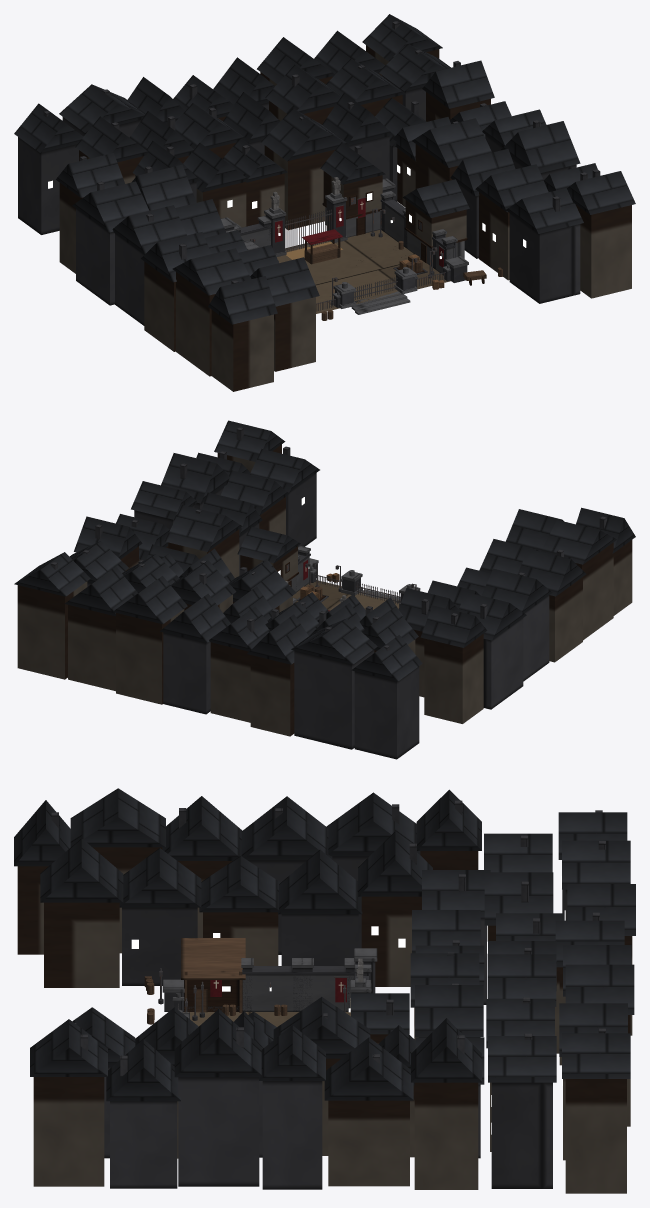
The model's file is town_night_market.glb.
3 renders of one model, top to bottom at view 1: azimuth 30°, elevation 25°; view 2: azimuth 150°, elevation 25°; view 3: azimuth 270°, elevation 25°, orthographic. The views are drawn at different scales.
Visible parts, largest first — view 1: _MeshInstance3D_4956, _MeshInstance3D_5244, _MeshInstance3D_5269, _MeshInstance3D_5196, _MeshInstance3D_5031, _MeshInstance3D_4989, _MeshInstance3D_5194, _MeshInstance3D_5180, _MeshInstance3D_5173, _MeshInstance3D_5261, _MeshInstance3D_4990, _MeshInstance3D_5236 (+58 smaller); view 2: _MeshInstance3D_5035, _MeshInstance3D_5031, _MeshInstance3D_5175, _MeshInstance3D_5053, _MeshInstance3D_5048, _MeshInstance3D_5050, _MeshInstance3D_5045, _MeshInstance3D_5039, _MeshInstance3D_5041, _MeshInstance3D_5180, _MeshInstance3D_5194, _MeshInstance3D_5190 (+46 smaller); view 3: _MeshInstance3D_5260, _MeshInstance3D_5269, _MeshInstance3D_5252, _MeshInstance3D_5053, _MeshInstance3D_5248, _MeshInstance3D_5256, _MeshInstance3D_5026, _MeshInstance3D_5173, _MeshInstance3D_5265, _MeshInstance3D_5170, _MeshInstance3D_5261, _MeshInstance3D_5195 (+54 smaller).
Boxes of the visible parts, <box> form: _MeshInstance3D_4956: <box>277,230,450,313</box>; _MeshInstance3D_5244: <box>509,213,580,303</box>; _MeshInstance3D_5269: <box>575,204,631,298</box>; _MeshInstance3D_5196: <box>211,310,273,391</box>; _MeshInstance3D_5031: <box>18,137,78,234</box>; _MeshInstance3D_4989: <box>264,145,334,230</box>; _MeshInstance3D_5194: <box>176,272,215,376</box>; _MeshInstance3D_5180: <box>76,209,114,305</box>; _MeshInstance3D_5173: <box>274,297,315,371</box>; _MeshInstance3D_5261: <box>501,121,580,172</box>; _MeshInstance3D_4990: <box>261,108,350,161</box>; _MeshInstance3D_5236: <box>412,118,491,167</box>; _MeshInstance3D_5035: <box>294,649,374,749</box>; _MeshInstance3D_5031: <box>354,666,419,759</box>; _MeshInstance3D_5175: <box>424,634,483,723</box>; _MeshInstance3D_5053: <box>17,581,87,679</box>; _MeshInstance3D_5048: <box>116,609,184,704</box>; _MeshInstance3D_5050: <box>68,605,115,691</box>; _MeshInstance3D_5045: <box>163,632,210,714</box>; _MeshInstance3D_5039: <box>250,655,294,736</box>; _MeshInstance3D_5041: <box>210,642,250,722</box>; _MeshInstance3D_5180: <box>483,618,523,709</box>; _MeshInstance3D_5194: <box>575,542,613,640</box>; _MeshInstance3D_5190: <box>549,577,582,662</box>; _MeshInstance3D_5260: <box>178,1077,259,1186</box>; _MeshInstance3D_5269: <box>33,1077,104,1186</box>; _MeshInstance3D_5252: <box>328,1100,409,1186</box>; _MeshInstance3D_5053: <box>565,1079,626,1193</box>; _MeshInstance3D_5248: <box>414,1082,478,1189</box>; _MeshInstance3D_5256: <box>262,1081,322,1189</box>; _MeshInstance3D_5026: <box>491,1082,552,1188</box>; _MeshInstance3D_5173: <box>44,902,119,987</box>; _MeshInstance3D_5265: <box>110,1101,177,1188</box>; _MeshInstance3D_5170: <box>122,907,197,985</box>; _MeshInstance3D_5261: <box>174,1009,262,1077</box>; _MeshInstance3D_5195: <box>70,788,165,847</box>.
Size of what is drawn, in the model's own units: 52.23 by 14.14 by 50.71.
Materials: 15 (11 with a texture image).
